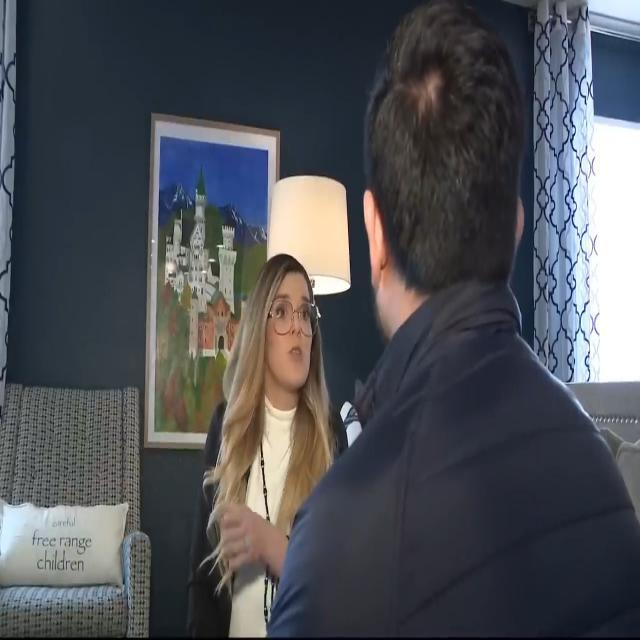non-fight: (344, 0, 636, 640), (206, 199, 350, 640)
